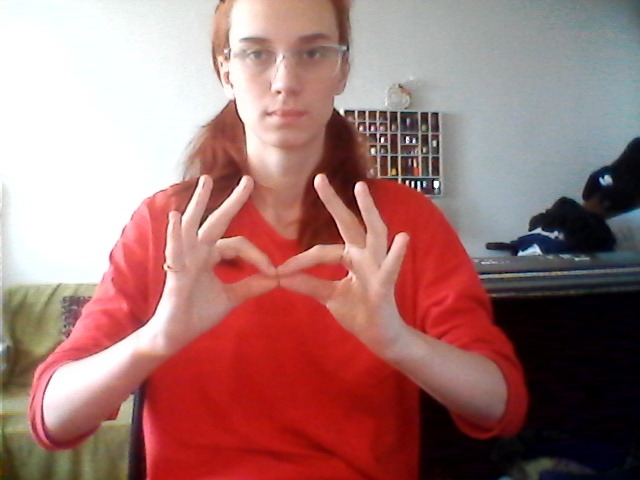b: (161, 165, 415, 368)
